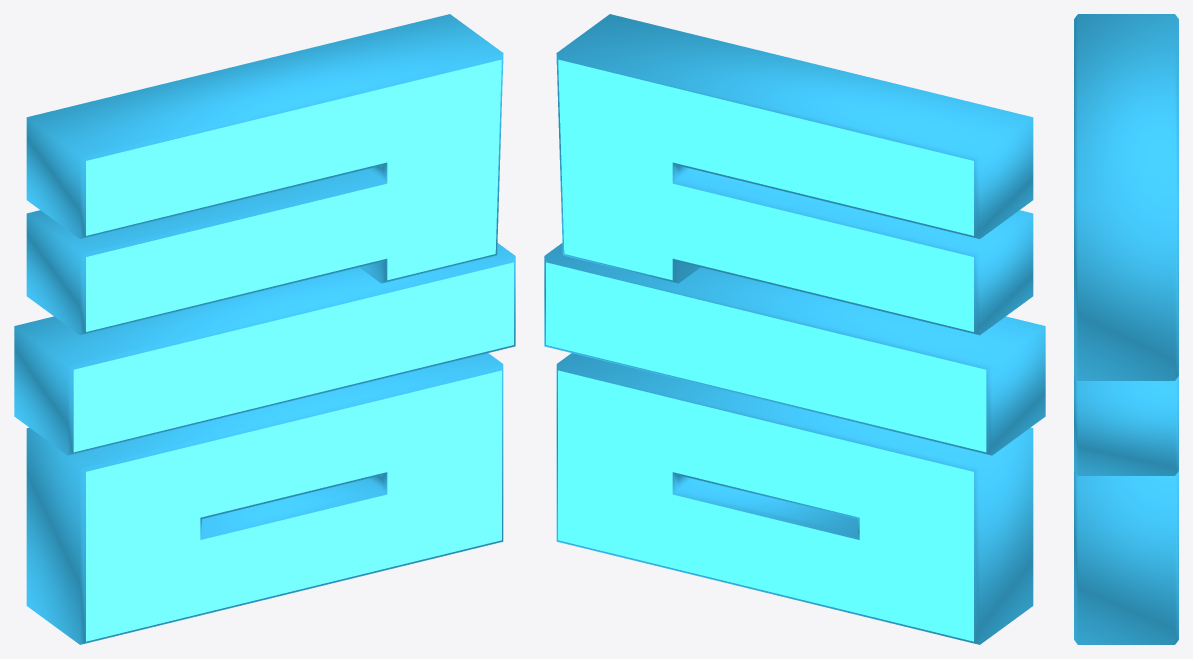
3 views of the same model, side by side, from view 1: azimuth 30°, elevation 25°; view 2: azimuth 150°, elevation 25°; view 3: azimuth 270°, elevation 25° (orthographic). The views are drawn at different scales.
Visible parts, largest first — view 1: glyph; view 2: glyph; view 3: glyph.
Part boxes in pixels (x1=…): glyph: x1=14, y1=14, x2=515, y2=644; glyph: x1=544, y1=14, x2=1045, y2=644; glyph: x1=1074, y1=14, x2=1178, y2=644.
Bounding box in the file's own units: 0.0725 × 0.0756 × 0.0162.
